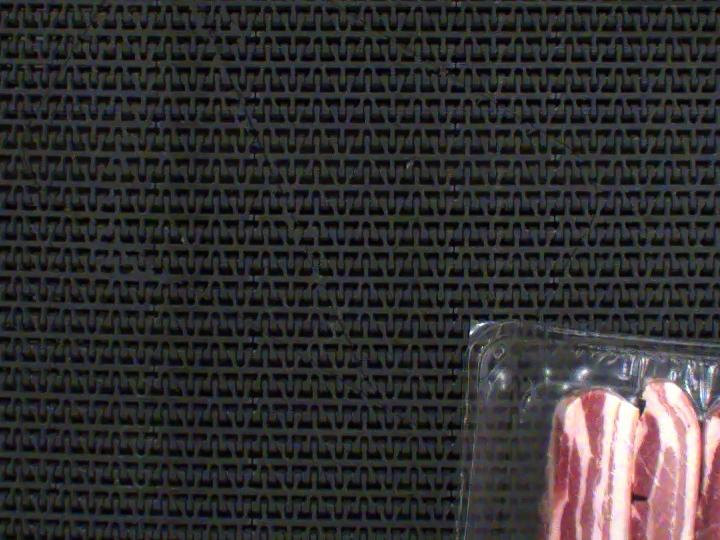unsealed: (495, 322, 720, 540)
